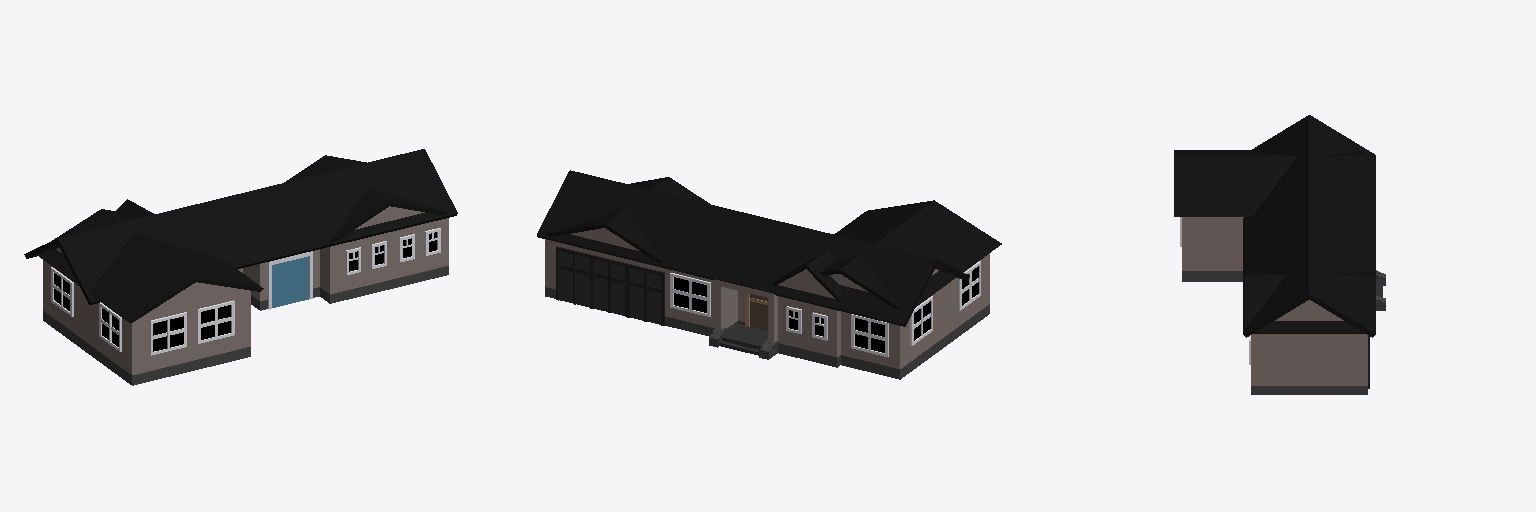
File: House2.obj
The picture shows the model from 3 angles: view 1: azimuth 30°, elevation 25°; view 2: azimuth 150°, elevation 25°; view 3: azimuth 270°, elevation 25°; orthographic projection.
Bounding box in the file's own units: 6.16 × 1.66 × 3.09.